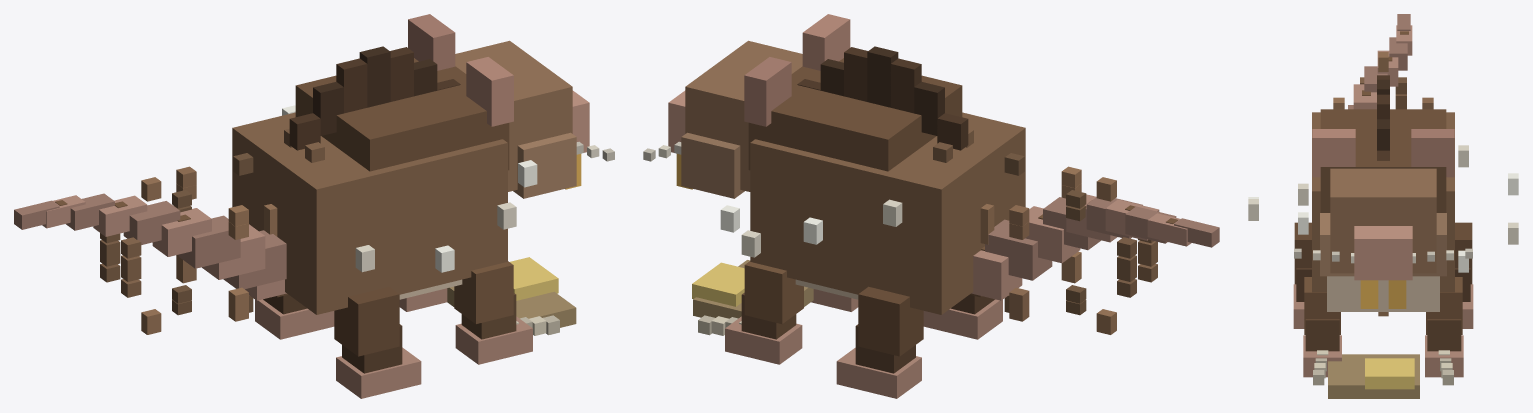
Rendered from mill-giant-vole.glb.
The picture shows the model from 3 angles, left to right: view 1: azimuth 30°, elevation 25°; view 2: azimuth 150°, elevation 25°; view 3: azimuth 270°, elevation 25°; orthographic projection. The views are drawn at different scales.
Parts seen in each view (by area): view 1: Body, Tail, Hunch, HindLegs, BristleMane, ForeLegs, Head, Scales, Ears, Jowls, Trim, FlourMotes (+4 smaller); view 2: Body, Tail, Hunch, HindLegs, BristleMane, ForeLegs, Head, Scales, Ears, Jowls, Trim, FlourMotes (+4 smaller); view 3: Head, ForeLegs, Hunch, Ears, Snout, Belly, HindLegs, TornSack, Body, Tail, FlourMotes, SpilledGrain (+7 smaller).
Boxes of the visible parts, <box> form: Body: <box>232,112,507,314</box>; Tail: <box>14,193,286,300</box>; Hunch: <box>295,58,509,171</box>; HindLegs: <box>255,286,421,398</box>; BristleMane: <box>289,46,460,150</box>; ForeLegs: <box>399,261,532,364</box>; Head: <box>455,40,572,191</box>; Scales: <box>100,128,324,321</box>; Ears: <box>408,14,513,126</box>; Jowls: <box>513,132,576,198</box>; Trim: <box>141,153,277,334</box>; FlourMotes: <box>282,105,537,272</box>; Body: <box>750,112,1025,314</box>; Tail: <box>971,194,1219,300</box>; Hunch: <box>748,58,962,171</box>; HindLegs: <box>836,286,1002,398</box>; BristleMane: <box>797,46,968,150</box>; ForeLegs: <box>725,261,858,364</box>; Head: <box>685,40,802,191</box>; Scales: <box>933,128,1157,321</box>; Ears: <box>744,14,850,126</box>; Jowls: <box>681,132,744,198</box>; Trim: <box>980,153,1116,334</box>; FlourMotes: <box>720,199,902,257</box>; Head: <box>1330,168,1436,273</box>; ForeLegs: <box>1303,277,1463,377</box>; Hunch: <box>1320,109,1446,212</box>; Ears: <box>1312,129,1454,177</box>; Snout: <box>1354,226,1412,280</box>; Belly: <box>1327,276,1439,311</box>; HindLegs: <box>1293,222,1473,328</box>; TornSack: <box>1328,354,1419,398</box>; Body: <box>1312,112,1454,292</box>; Tail: <box>1348,14,1412,109</box>; FlourMotes: <box>1248,145,1518,272</box>; SpilledGrain: <box>1365,358,1414,389</box>.
Bounding box in the file's own units: 8.36 × 4.3 × 4.26.
